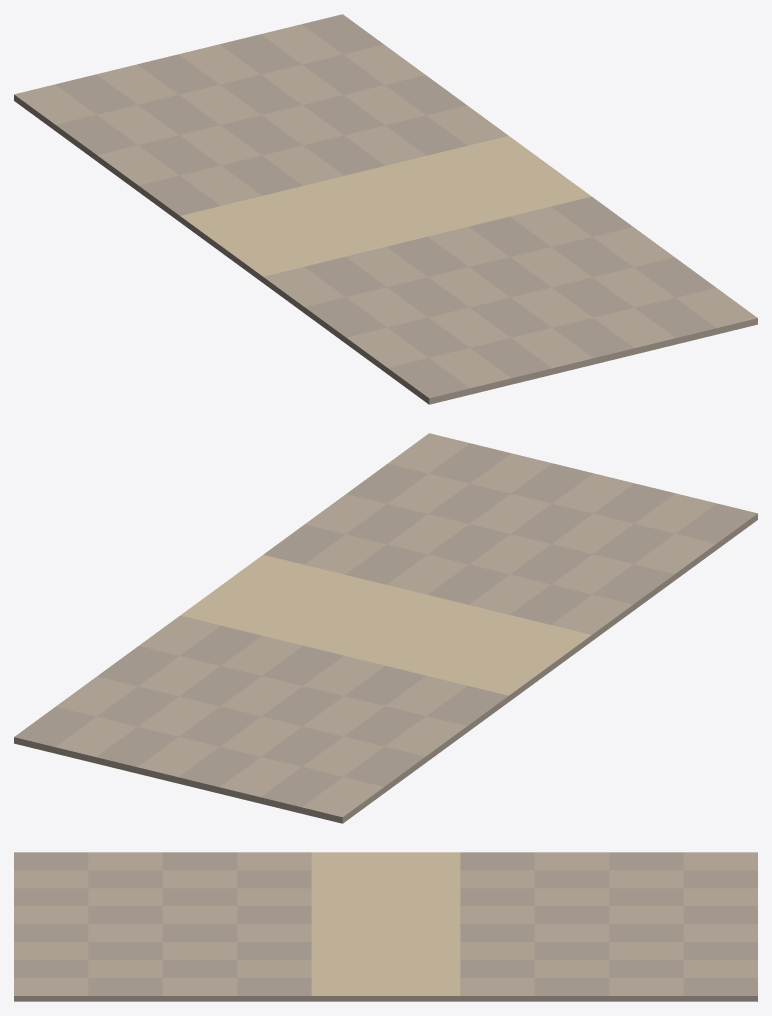
File: TC_Floor64.glb
The picture shows the model from 3 angles, top to bottom: view 1: azimuth 30°, elevation 25°; view 2: azimuth 150°, elevation 25°; view 3: azimuth 270°, elevation 25°; orthographic projection. The views are drawn at different scales.
Visible parts, largest first — view 1: TC_Floor64; view 2: TC_Floor64; view 3: TC_Floor64.
Boxes of the visible parts, left/top/right/bottom form: TC_Floor64: left=14, top=14, right=757, bottom=404; TC_Floor64: left=14, top=433, right=757, bottom=823; TC_Floor64: left=14, top=852, right=757, bottom=1001.
Size of the model in its own units: 64 by 1.2 by 140.
Materials: 1 (1 with a texture image).
